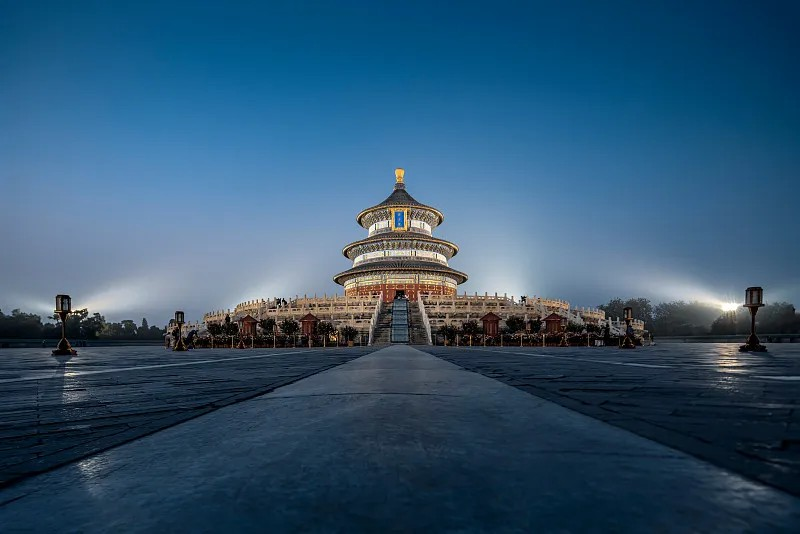Heaven: (331, 165, 469, 300)
